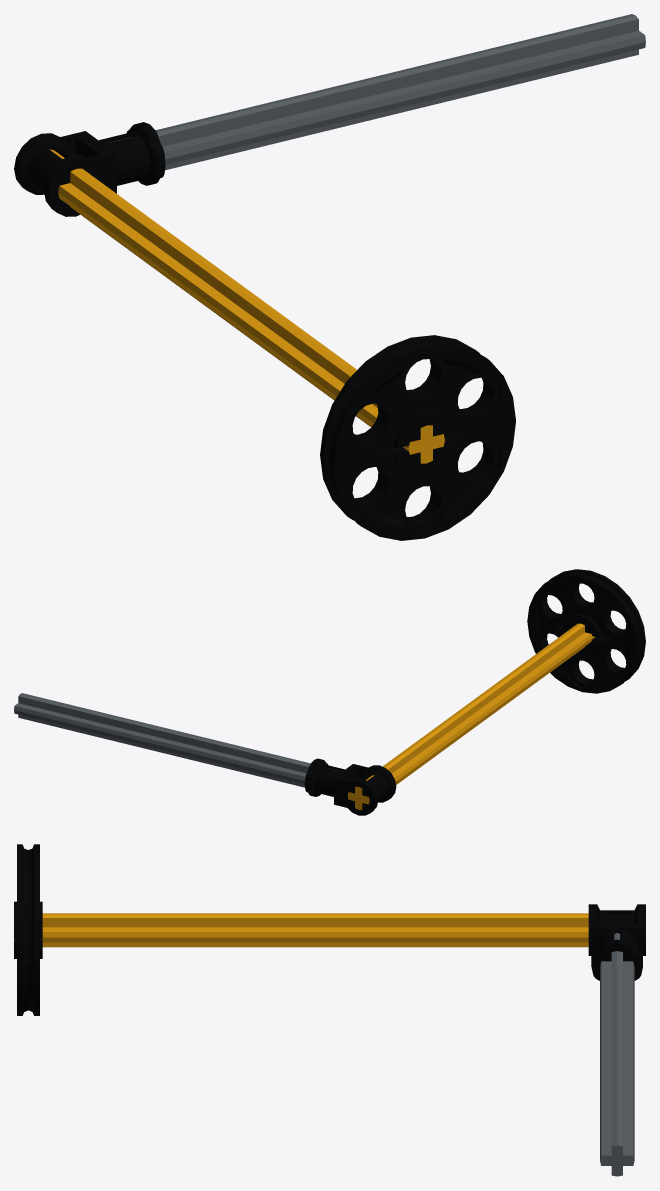
The model's file is clock_visual.obj.
The picture shows the model from 3 angles, top to bottom: view 1: azimuth 30°, elevation 25°; view 2: azimuth 150°, elevation 25°; view 3: azimuth 270°, elevation 25°; orthographic projection. The views are drawn at different scales.
Visible parts, largest first — view 1: clock_visual.001; view 2: clock_visual.001; view 3: clock_visual.001.
Part boxes in pixels (x1,y1,x2,y2): clock_visual.001: [14, 14, 645, 540]; clock_visual.001: [14, 569, 645, 815]; clock_visual.001: [14, 844, 645, 1176].
Bounding box in the file's own units: 0.22 × 0.06 × 0.22.
